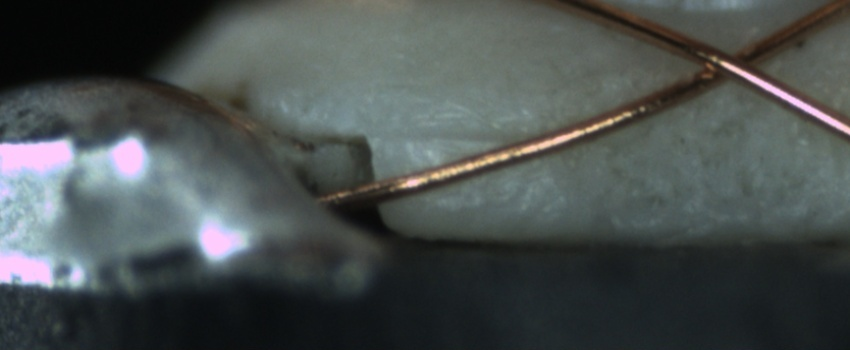CL: (680, 31, 781, 93)
DL: (392, 106, 533, 168)
